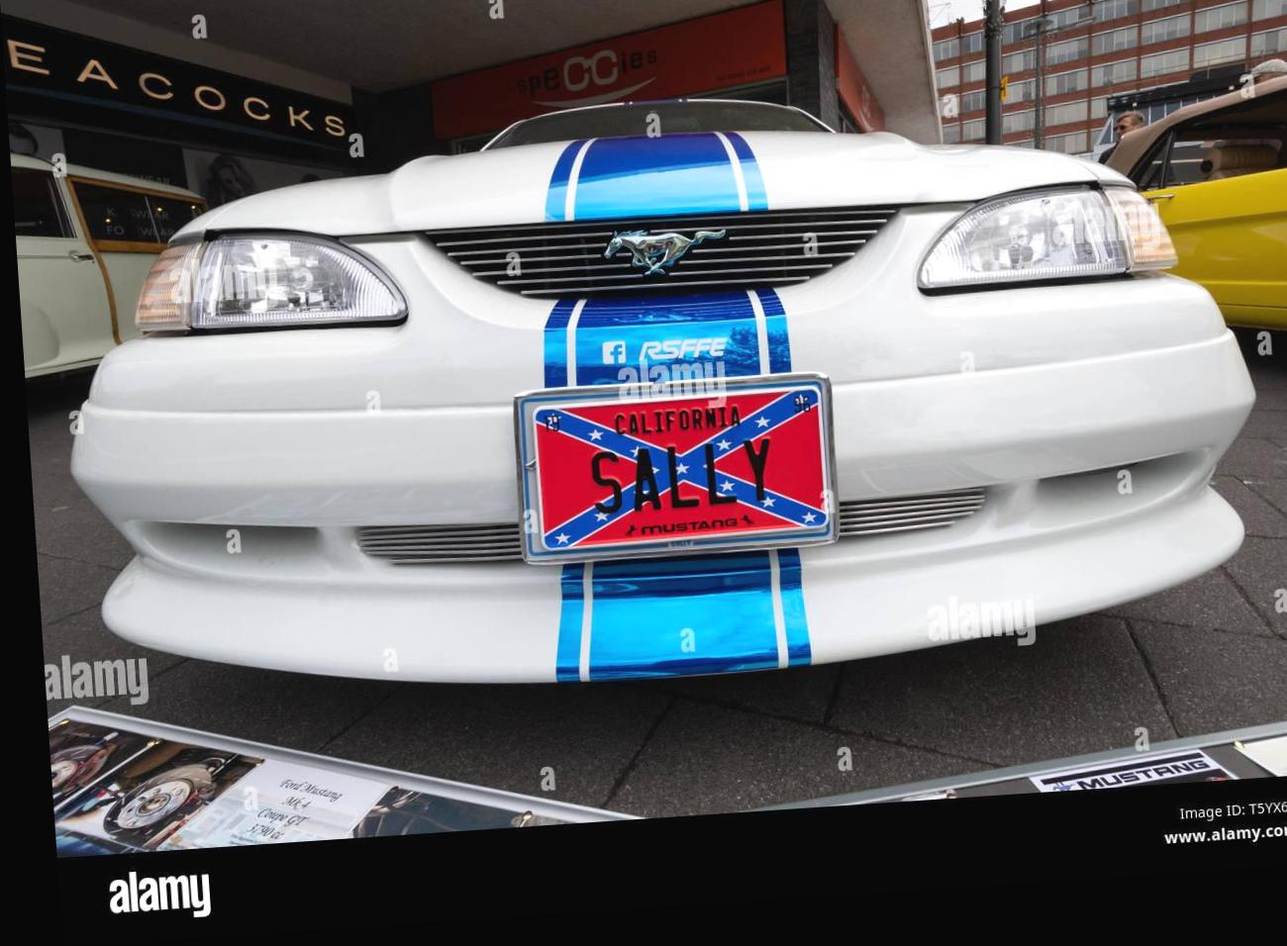License_Plate: (521, 372, 850, 578)
